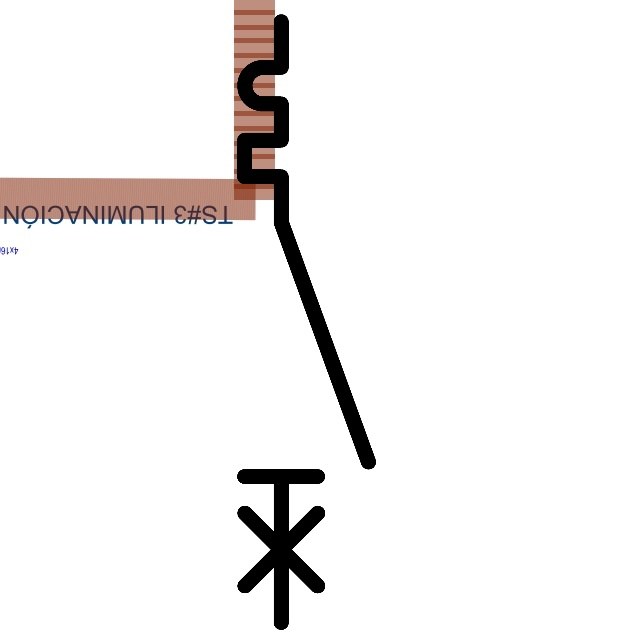interruptor_termomagnetico: (229, 6, 384, 638)
